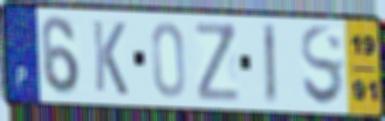0: (150, 20, 188, 101)
6: (40, 14, 84, 99)
I: (260, 21, 279, 107)
K: (90, 17, 130, 98)
S: (298, 23, 346, 110)
Z: (192, 20, 242, 104)
